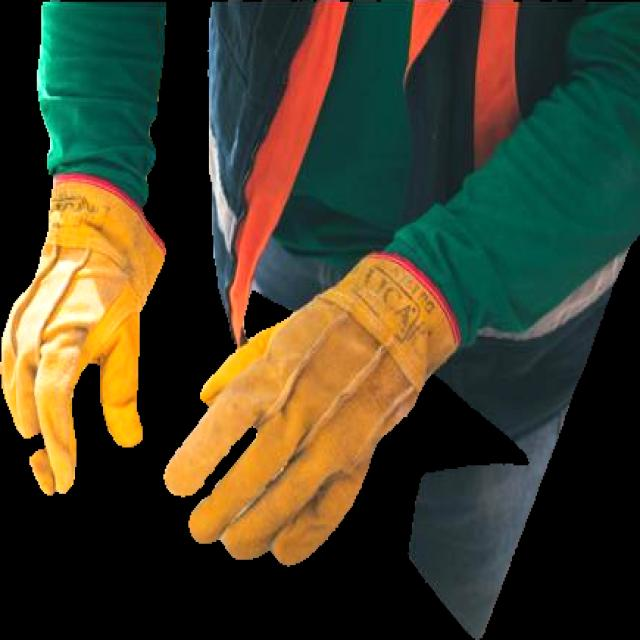Pessoa: (164, 0, 639, 639)
